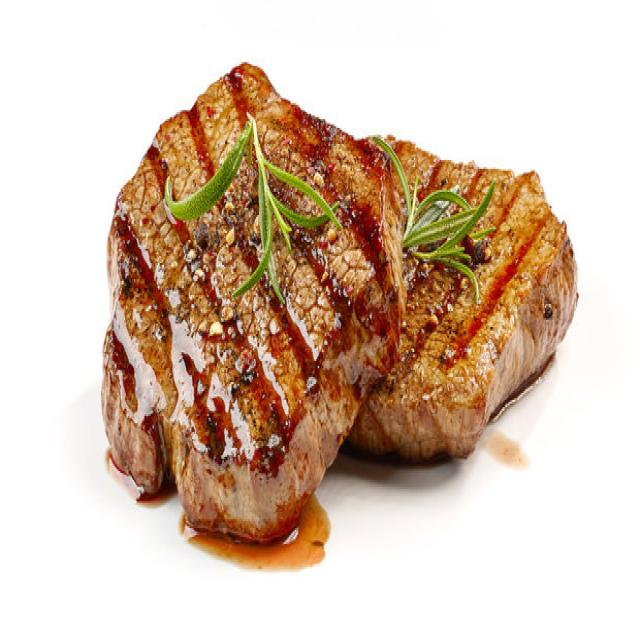Carne: (99, 59, 578, 544)
